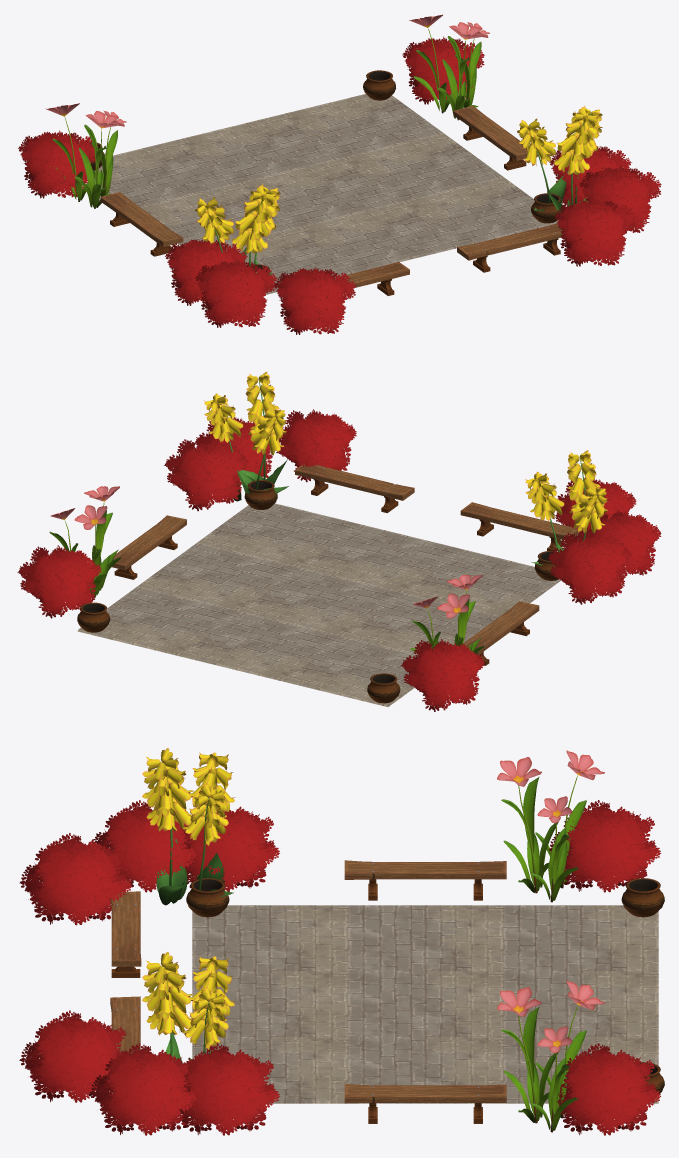
The model's file is Plaza.glb.
3 renders of one model, top to bottom at view 1: azimuth 30°, elevation 25°; view 2: azimuth 150°, elevation 25°; view 3: azimuth 270°, elevation 25°, orthographic. The views are drawn at different scales.
Visible parts, largest first — view 1: Floor_Brick.022, Floor_Brick.024, Floor_Brick.026, Floor_Brick.027, Floor_Brick.025, Floor_Brick.023, Floor_Brick.021, Bush_Common.003, Bush_Common.007, Bush_Common.002, Flower_4_Group.002, Bush_Common.004 (+15 smaller); view 2: Floor_Brick.024, Floor_Brick.022, Floor_Brick.023, Floor_Brick.026, Floor_Brick.025, Floor_Brick.027, Floor_Brick.019, Floor_Brick.021, Floor_Brick.020, Flower_4_Group.002, Bush_Common.004, Bush_Common.001 (+16 smaller); view 3: Floor_Brick.020, Floor_Brick.023, Floor_Brick.021, Floor_Brick.019, Floor_Brick.024, Floor_Brick.022, Floor_Brick.026, Flower_4_Group.001, Bush_Common.003, Bush_Common.006, Bush_Common.008, Bush_Common.005 (+15 smaller).
Boxes of the visible parts, x1=… form: Floor_Brick.022: x1=297, y1=202, x2=459, y2=272; Floor_Brick.024: x1=176, y1=115, x2=339, y2=183; Floor_Brick.026: x1=340, y1=133, x2=503, y2=202; Floor_Brick.027: x1=280, y1=94, x2=443, y2=158; Floor_Brick.025: x1=400, y1=177, x2=558, y2=246; Floor_Brick.023: x1=236, y1=158, x2=399, y2=227; Floor_Brick.021: x1=94, y1=140, x2=235, y2=207; Bush_Common.003: x1=273, y1=267, x2=356, y2=334; Bush_Common.007: x1=554, y1=198, x2=636, y2=266; Bush_Common.002: x1=195, y1=260, x2=277, y2=327; Flower_4_Group.002: x1=517, y1=105, x2=602, y2=213; Bush_Common.004: x1=18, y1=130, x2=98, y2=198; Floor_Brick.024: x1=181, y1=612, x2=343, y2=681; Floor_Brick.022: x1=301, y1=524, x2=463, y2=593; Floor_Brick.023: x1=241, y1=568, x2=403, y2=636; Floor_Brick.026: x1=137, y1=543, x2=299, y2=611; Floor_Brick.025: x1=197, y1=503, x2=359, y2=567; Floor_Brick.027: x1=77, y1=586, x2=240, y2=656; Floor_Brick.019: x1=404, y1=549, x2=560, y2=616; Floor_Brick.021: x1=285, y1=637, x2=417, y2=706; Floor_Brick.020: x1=345, y1=593, x2=499, y2=655; Flower_4_Group.002: x1=204, y1=372, x2=288, y2=507; Bush_Common.004: x1=400, y1=639, x2=484, y2=711; Bush_Common.001: x1=547, y1=531, x2=631, y2=604; Floor_Brick.020: x1=347, y1=905, x2=503, y2=970; Floor_Brick.023: x1=347, y1=971, x2=503, y2=1036; Floor_Brick.021: x1=503, y1=905, x2=658, y2=970; Floor_Brick.019: x1=192, y1=905, x2=347, y2=970; Floor_Brick.024: x1=503, y1=971, x2=658, y2=1036; Floor_Brick.022: x1=192, y1=971, x2=347, y2=1036; Floor_Brick.026: x1=347, y1=1036, x2=503, y2=1103; Flower_4_Group.001: x1=142, y1=748, x2=235, y2=905; Bush_Common.003: x1=19, y1=833, x2=132, y2=925; Bush_Common.006: x1=89, y1=1043, x2=200, y2=1135; Bush_Common.008: x1=557, y1=1043, x2=660, y2=1135; Bush_Common.005: x1=179, y1=1043, x2=279, y2=1135.
Bounding box in the file's own units: 8.93 × 2.37 × 8.37.
Materials: 9 (9 with a texture image).
